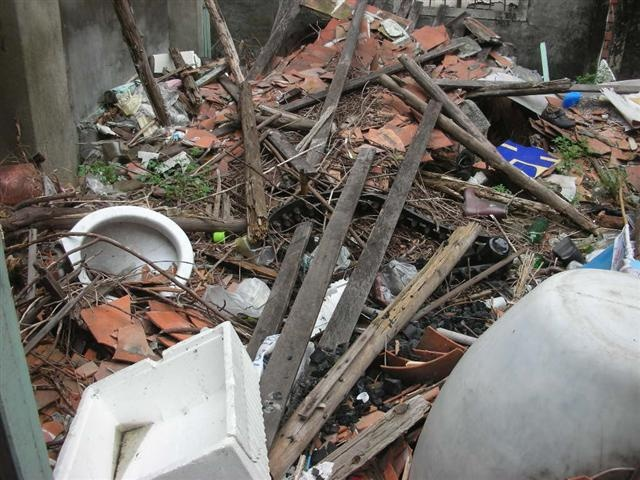styrofoam: (51, 319, 273, 480)
toilet: (54, 206, 193, 302)
